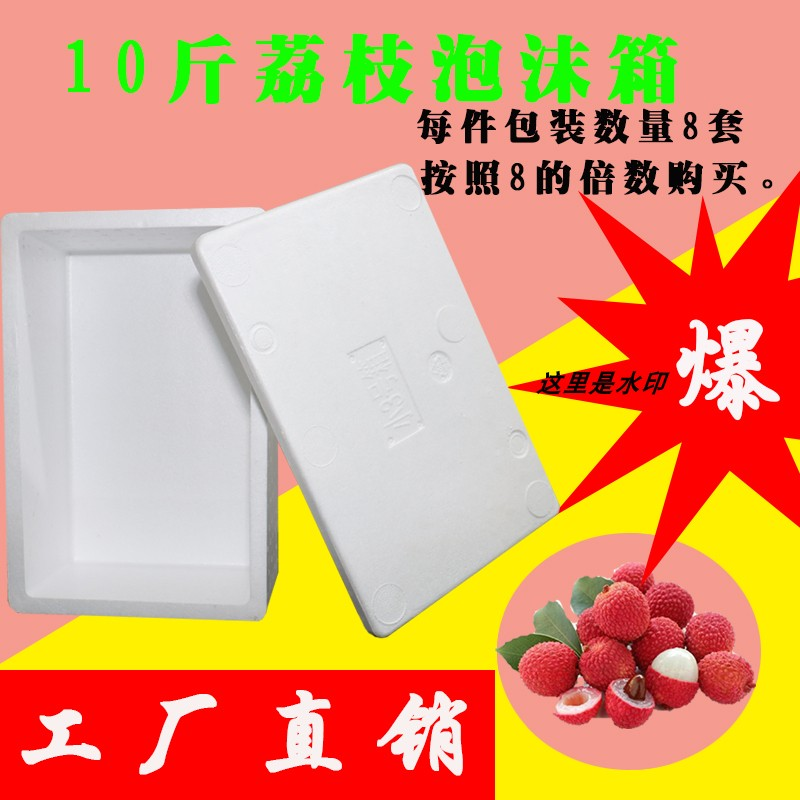Boxes: (2, 166, 557, 637)
